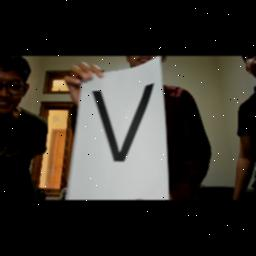v: (88, 80, 158, 160)
